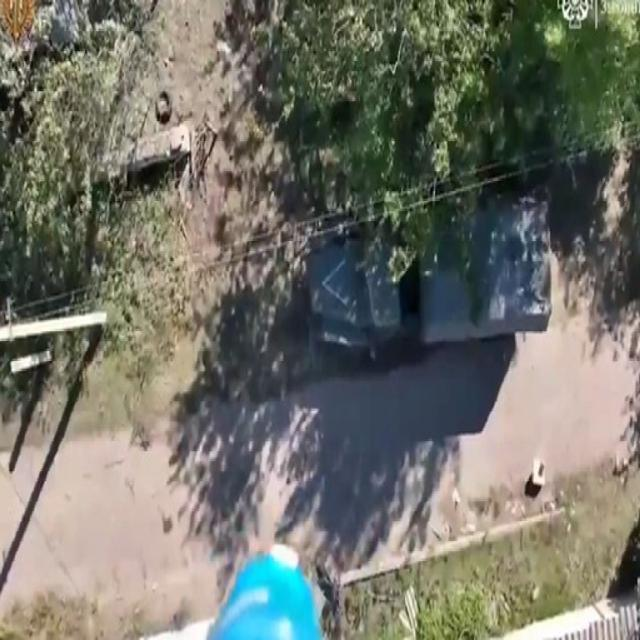TRUCK: (304, 182, 561, 380)
